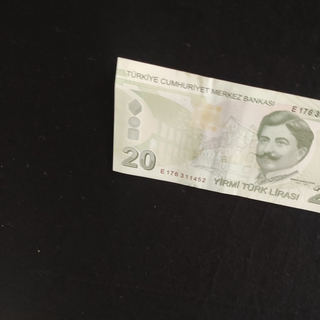20TLBack: (112, 57, 320, 219)
